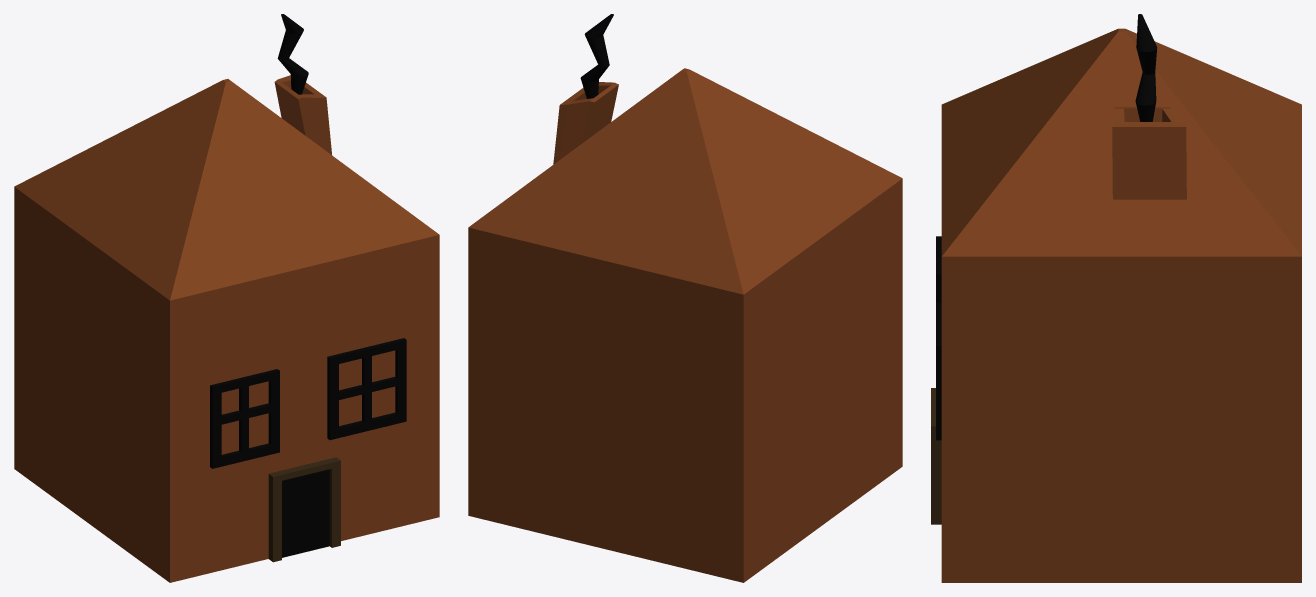
File: ev şekilli başlık.fbx
3 renders of one model, left to right at view 1: azimuth 30°, elevation 25°; view 2: azimuth 150°, elevation 25°; view 3: azimuth 270°, elevation 25°, orthographic. The views are drawn at different scales.
Parts seen in each view (by area): view 1: Silindir; view 2: Silindir; view 3: Silindir.
Part boxes in pixels (box(x1,y1,x2,y2)): Silindir: box(14, 14, 439, 582); Silindir: box(468, 14, 902, 582); Silindir: box(931, 14, 1301, 582).
Size of the model in its own units: 306 by 496 by 316.
